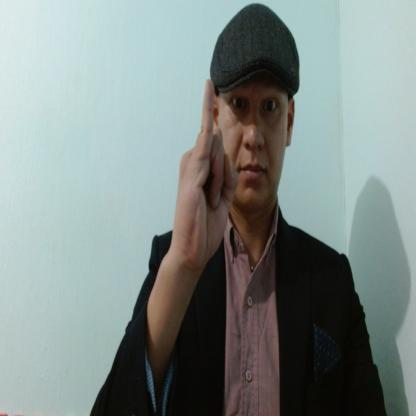I: (174, 76, 240, 266)
